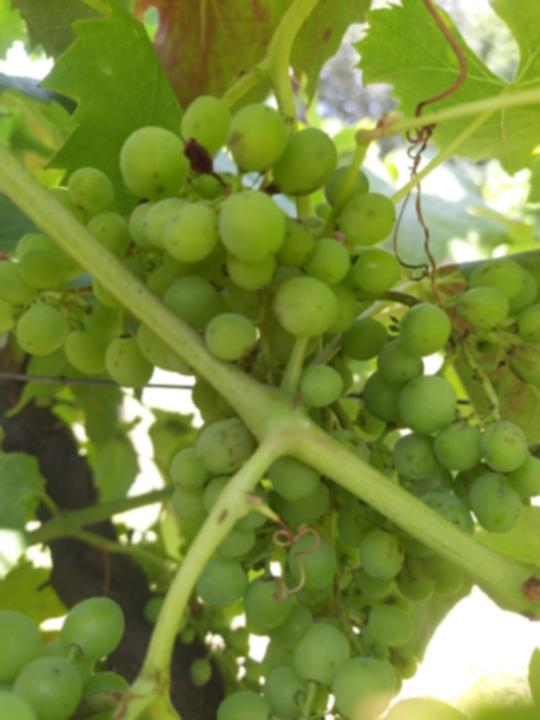grape: (20, 95, 529, 692)
